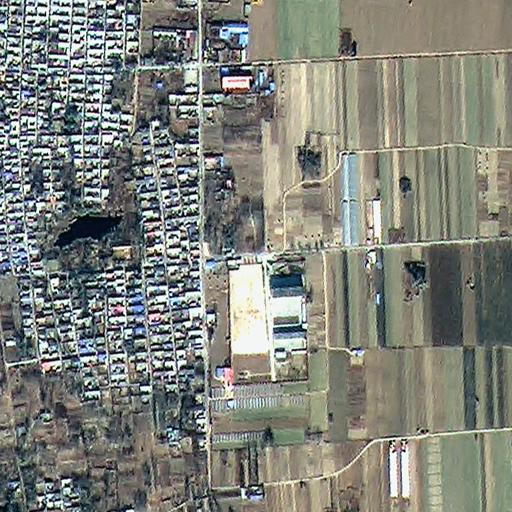school: (226, 262, 307, 385)
